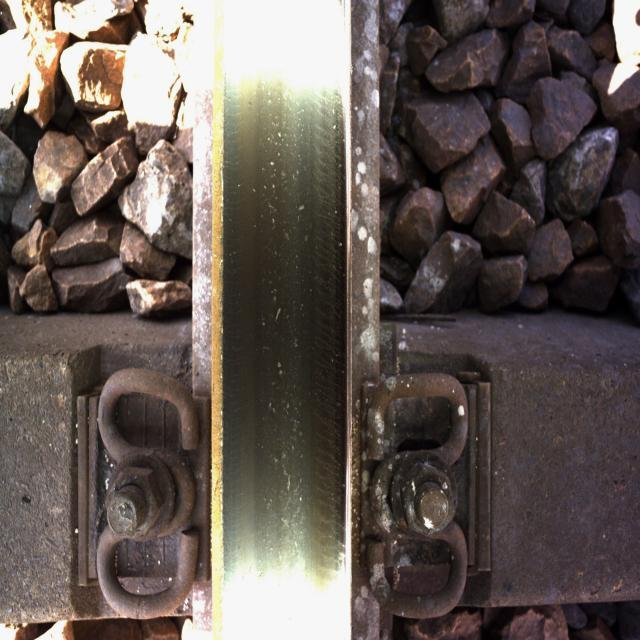normal: (230, 56, 335, 602)
